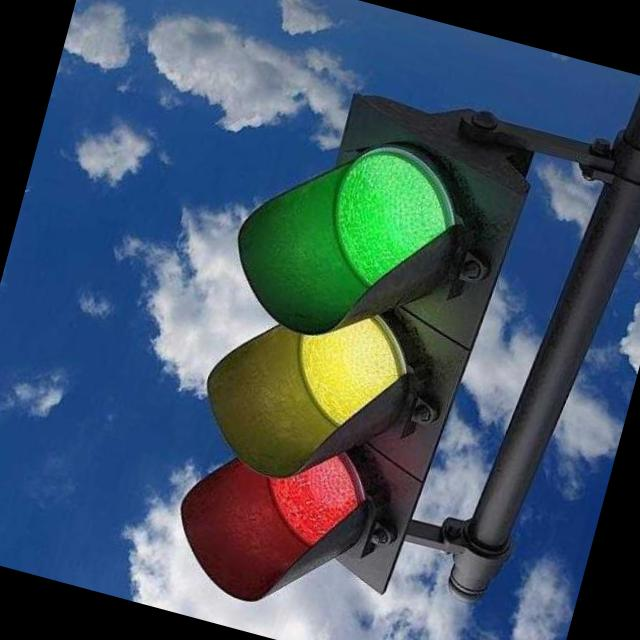green-lights: (295, 122, 471, 311)
red-lights: (199, 420, 384, 590)
yellow-lights: (247, 272, 427, 452)
